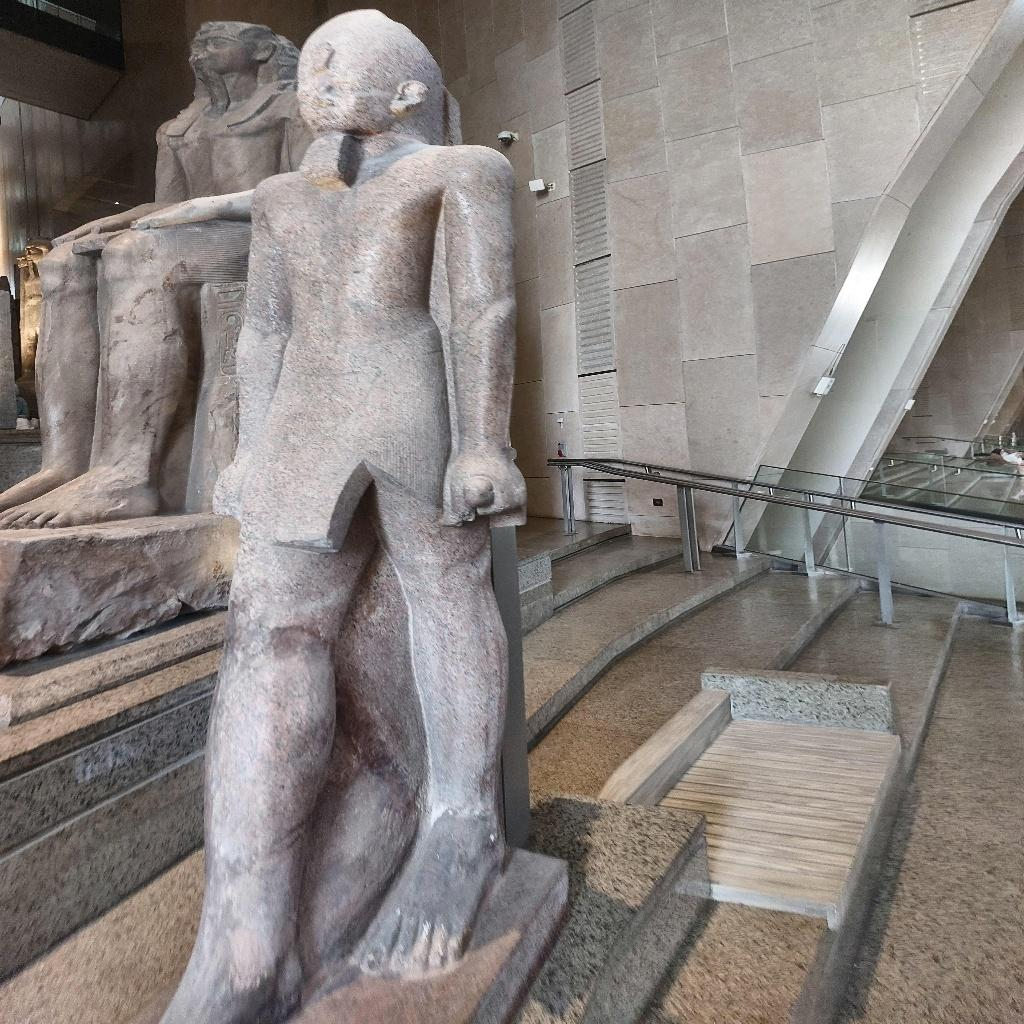Colossal Statue of King Senwosret IlI: (144, 8, 566, 1019)
